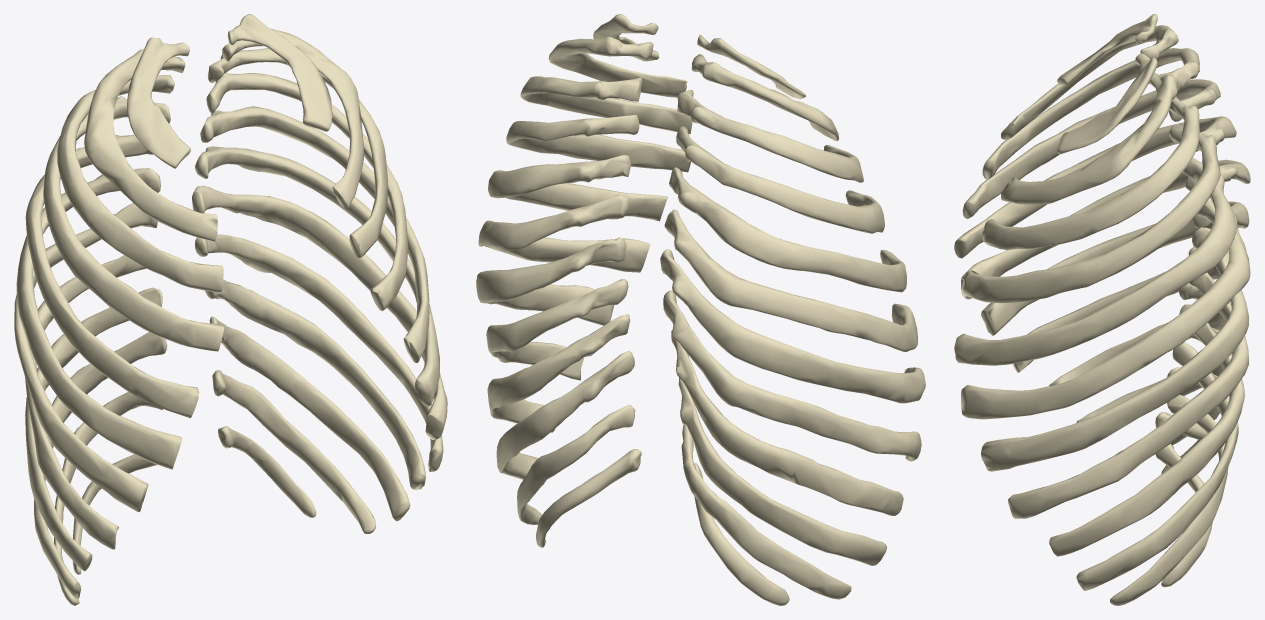
Rendered from ribs.glb.
The picture shows the model from 3 angles, left to right: view 1: azimuth 30°, elevation 25°; view 2: azimuth 150°, elevation 25°; view 3: azimuth 270°, elevation 25°; orthographic projection. The views are drawn at different scales.
Parts seen in each view (by area): view 1: Ribs; view 2: Ribs; view 3: Ribs.
Boxes of the visible parts, <box> form: Ribs: <box>14,14,447,605</box>; Ribs: <box>476,14,925,605</box>; Ribs: <box>954,14,1250,605</box>.
Size of the model in its own units: 0.2726 by 0.3623 by 0.194.
